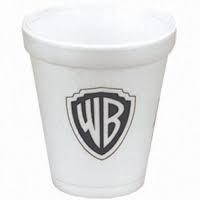Plastic cup: (12, 7, 196, 200)
